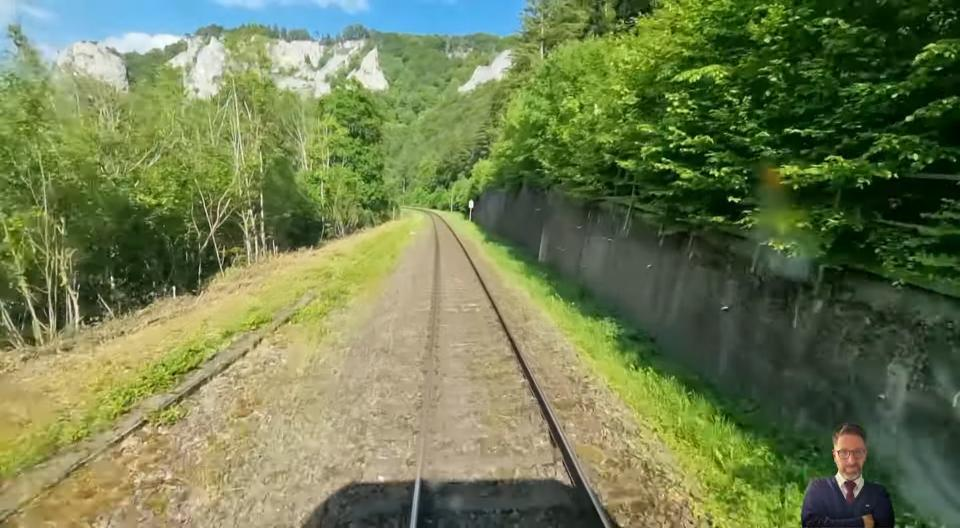Plant: (472, 224, 828, 528), (290, 218, 418, 323), (150, 403, 188, 427)
